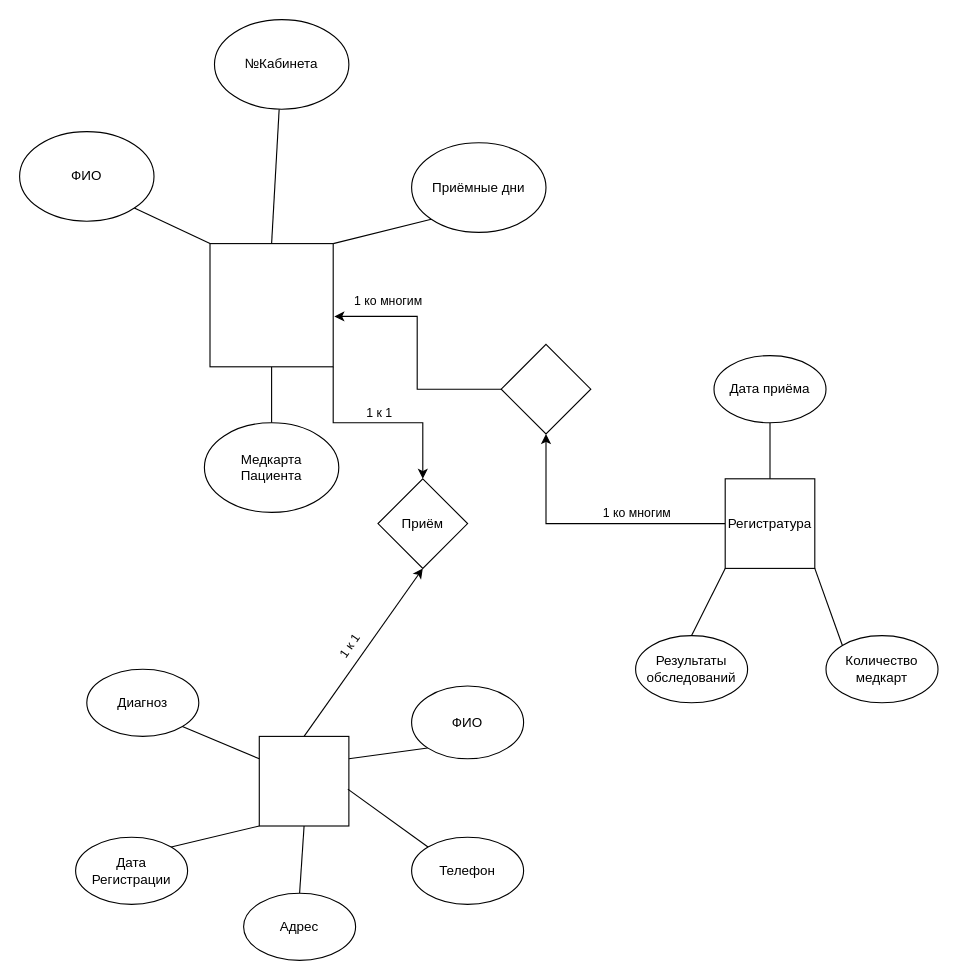
Image size: 958x980. Some labels were removed from this diagram. Each missing label, with the centre of its shape:
"Врач" goes at point 271,304.
"Запись" goes at point 545,388.
"Пациент" goes at point 303,780.
